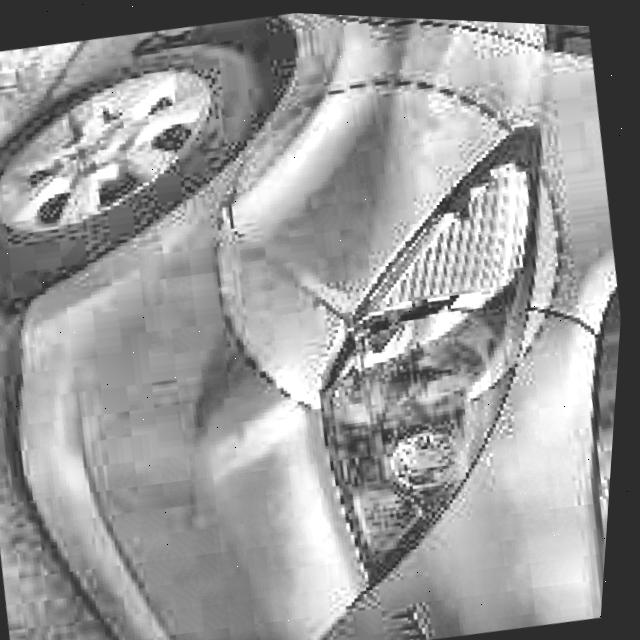tail_lamp: (367, 128, 572, 332), (337, 256, 477, 368)
